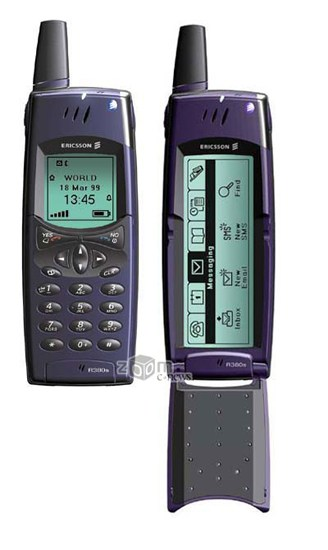phone: (153, 17, 280, 527), (17, 13, 145, 392)
